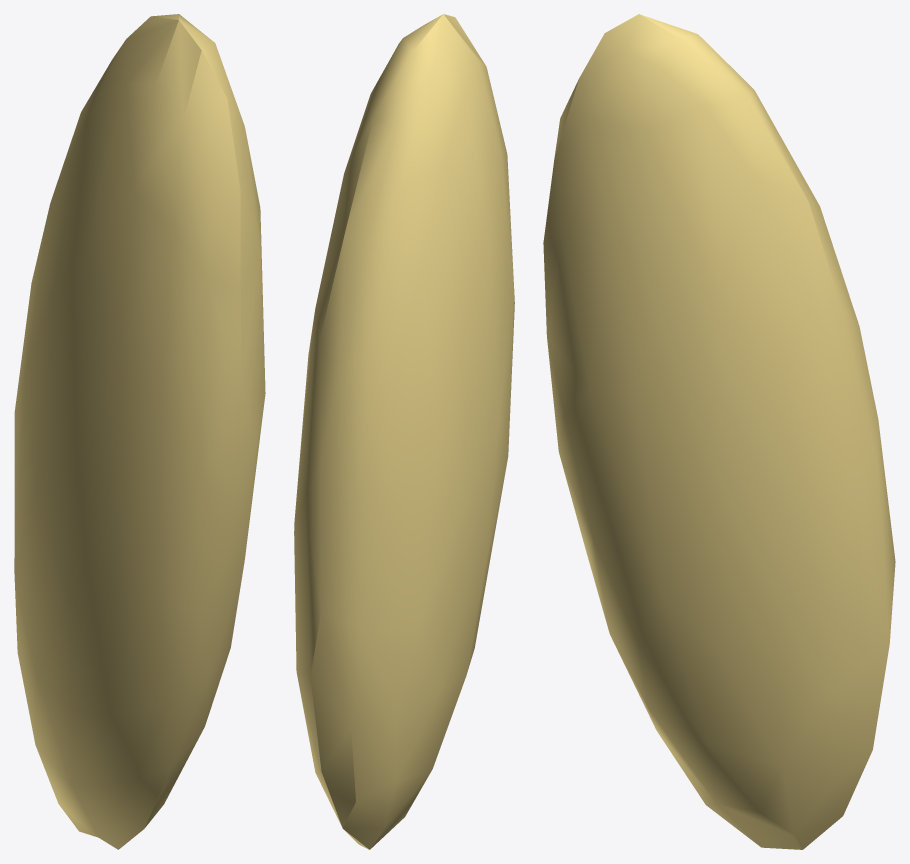
Rendered from fma68875_mm2699.glb.
3 renders of one model, left to right at view 1: azimuth 30°, elevation 25°; view 2: azimuth 150°, elevation 25°; view 3: azimuth 270°, elevation 25°, orthographic. The views are drawn at different scales.
Visible parts, largest first — view 1: FMA68875_MM2699; view 2: FMA68875_MM2699; view 3: FMA68875_MM2699.
Boxes of the visible parts, left/top/right/bottom form: FMA68875_MM2699: left=14, top=14, right=265, bottom=849; FMA68875_MM2699: left=294, top=14, right=514, bottom=849; FMA68875_MM2699: left=543, top=14, right=895, bottom=849.
Bounding box in the file's own units: 0.00101 × 0.00487 × 0.00187.
